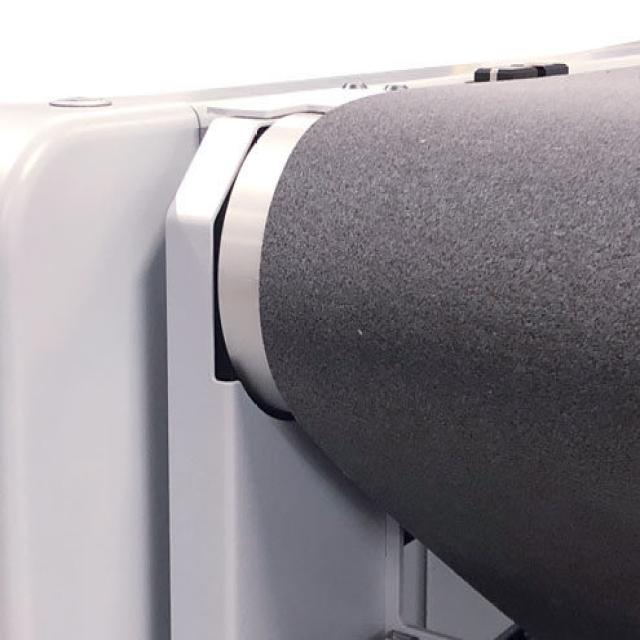conveyor: (100, 67, 640, 607)
